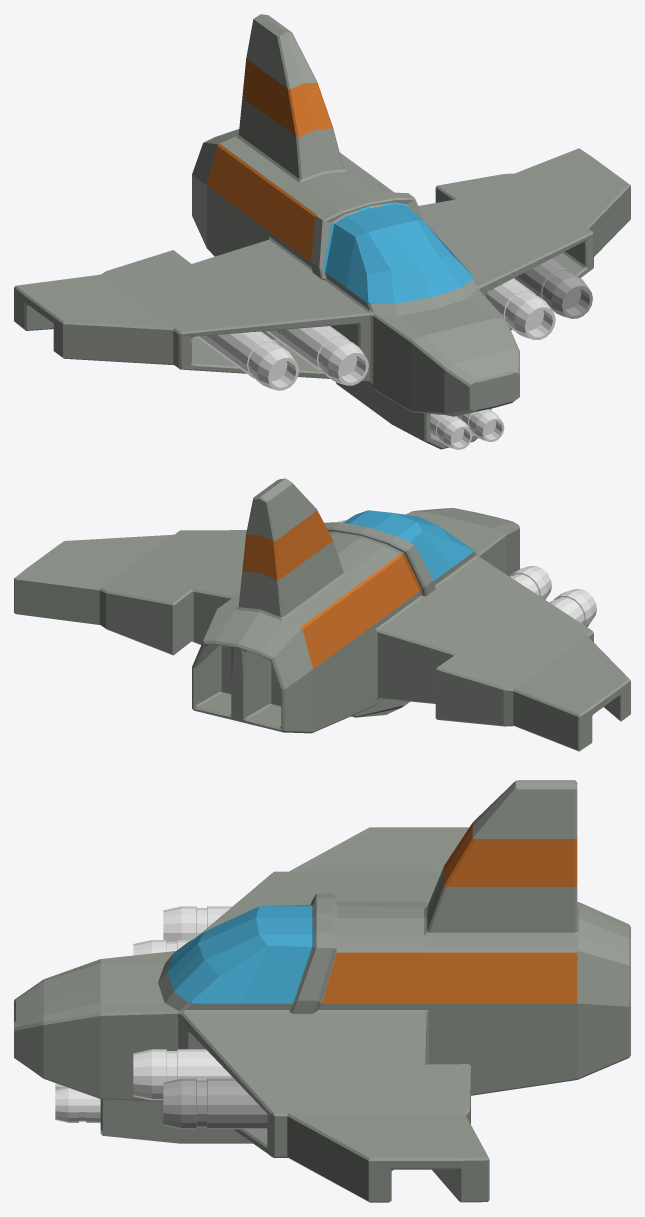
3 renders of one model, top to bottom at view 1: azimuth 30°, elevation 25°; view 2: azimuth 150°, elevation 25°; view 3: azimuth 270°, elevation 25°, orthographic. The views are drawn at different scales.
Visible parts, largest first — view 1: body.001, Gun 03.001, Gun 04.001, Gun 02.001, Gun.001, lower gun.001; view 2: body.001, Gun 04.001, Gun 03.001; view 3: body.001, Gun 02.001, Gun.001, Gun 04.001, lower gun.001, Gun 03.001.
Part boxes in pixels (x1,y1,x2,y2): body.001: [14, 14, 630, 449]; Gun 03.001: [266, 326, 368, 385]; Gun 04.001: [197, 331, 298, 390]; Gun 02.001: [514, 258, 592, 318]; Gun.001: [486, 278, 555, 339]; lower gun.001: [429, 409, 504, 449]; body.001: [14, 478, 630, 751]; Gun 04.001: [549, 589, 596, 626]; Gun 03.001: [509, 566, 551, 599]; body.001: [14, 780, 630, 1202]; Gun 02.001: [163, 1078, 267, 1129]; Gun.001: [133, 1049, 233, 1100]; Gun 04.001: [163, 906, 232, 941]; lower gun.001: [55, 1083, 100, 1122]; Gun 03.001: [133, 940, 191, 955].
Size of the model in its own units: 1068 by 528 by 837.
